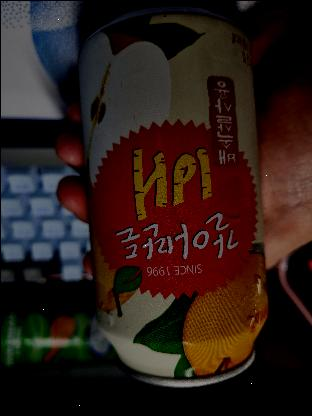Can: (68, 7, 278, 387)
